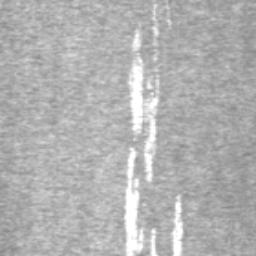White rust: (123, 56, 159, 256), (171, 196, 185, 256), (152, 3, 160, 39), (150, 228, 159, 256), (131, 28, 141, 51)
